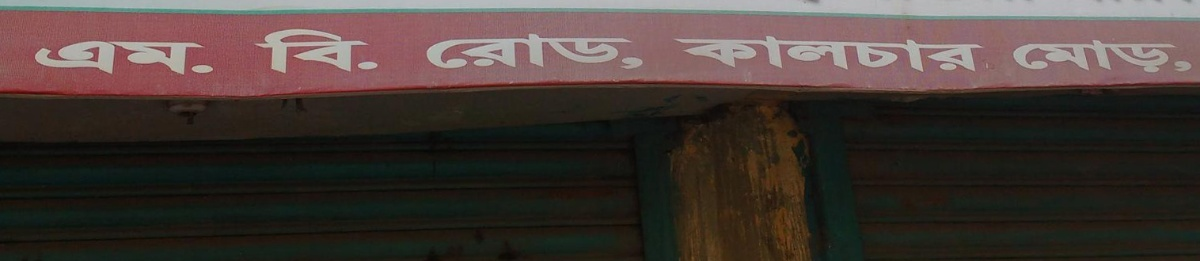text: (257, 24, 272, 81), (273, 24, 288, 81), (289, 24, 304, 81), (305, 24, 320, 81), (321, 24, 336, 81), (337, 24, 352, 81), (353, 24, 368, 81), (369, 24, 383, 81), (641, 30, 657, 78), (433, 30, 448, 78), (449, 30, 464, 78), (465, 30, 480, 78), (481, 30, 496, 78), (497, 30, 512, 78), (513, 30, 528, 78), (529, 30, 544, 78), (545, 30, 560, 78), (561, 30, 576, 78), (577, 30, 592, 78), (593, 30, 608, 78), (609, 30, 624, 78), (625, 30, 640, 78), (49, 34, 64, 78), (65, 34, 80, 78), (81, 34, 96, 78), (97, 34, 112, 78), (113, 34, 128, 78), (129, 34, 144, 78), (145, 34, 160, 78), (161, 34, 176, 78), (177, 34, 192, 78), (193, 34, 208, 78), (673, 33, 688, 75), (689, 33, 704, 75), (705, 33, 720, 75), (721, 33, 736, 75), (737, 33, 752, 75), (753, 33, 768, 75), (769, 33, 784, 75), (785, 33, 800, 75), (801, 33, 816, 75), (817, 33, 832, 75), (833, 33, 848, 75), (849, 33, 864, 75), (865, 33, 880, 75), (881, 33, 896, 75), (897, 33, 912, 75), (913, 33, 928, 75), (929, 33, 944, 75), (945, 33, 960, 75), (961, 33, 976, 75), (1025, 39, 1040, 80), (1041, 39, 1056, 80), (1057, 39, 1072, 80), (1073, 39, 1088, 80), (1089, 39, 1104, 80), (1105, 39, 1120, 80), (1121, 39, 1136, 80), (1137, 39, 1152, 80), (1153, 39, 1168, 80), (1169, 39, 1184, 80), (1011, 39, 1024, 80), (422, 30, 432, 78), (38, 34, 48, 78), (977, 33, 987, 75), (1185, 39, 1195, 80), (209, 34, 216, 78), (253, 24, 256, 81)
